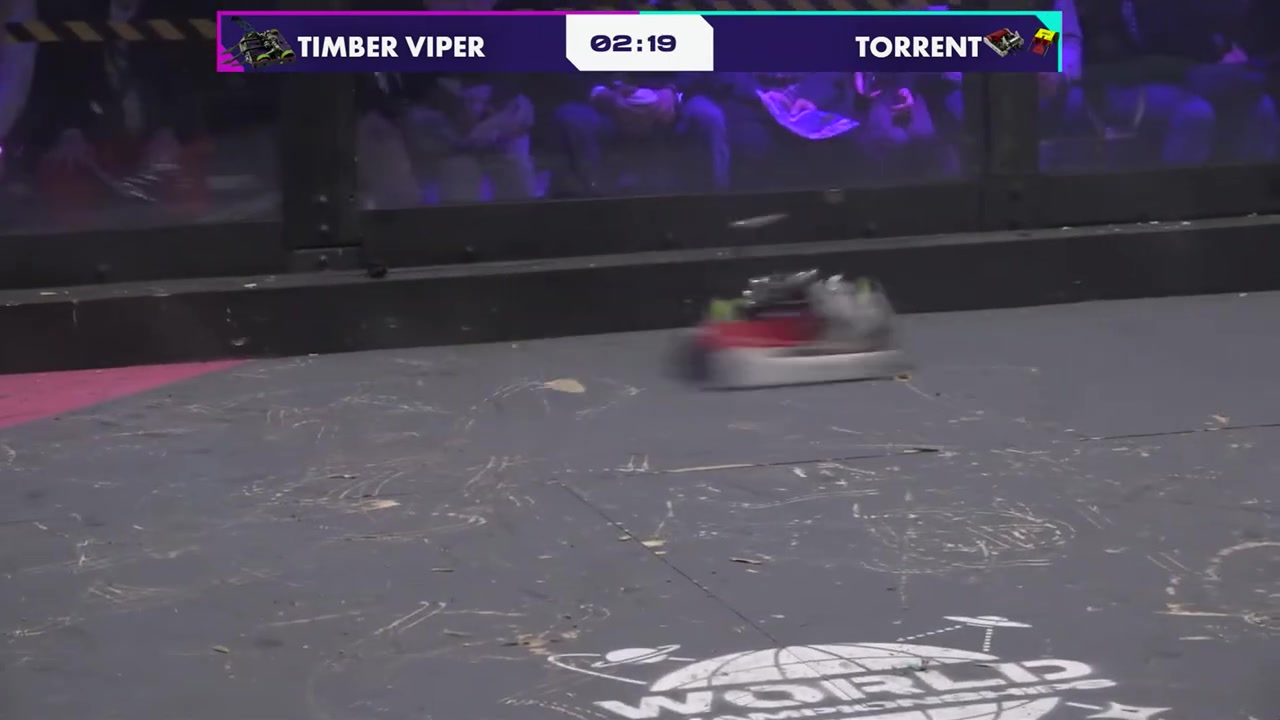combatbot: (694, 326, 899, 383), (713, 269, 822, 324)
